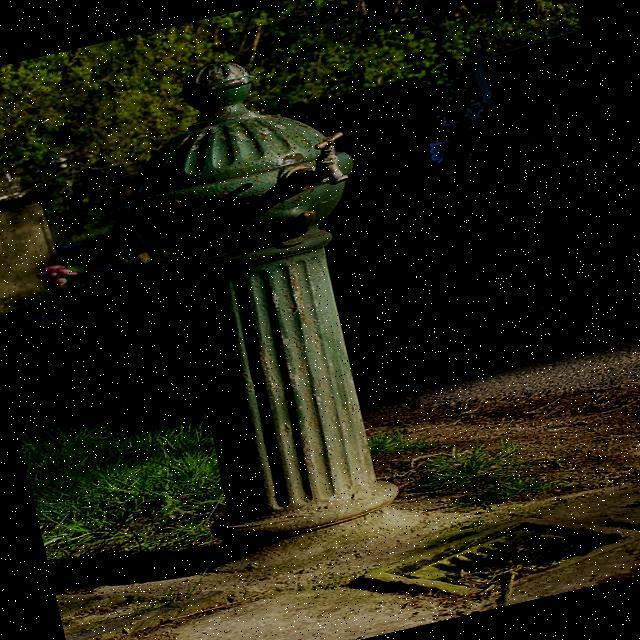fire_hydrant: (94, 33, 436, 556)
